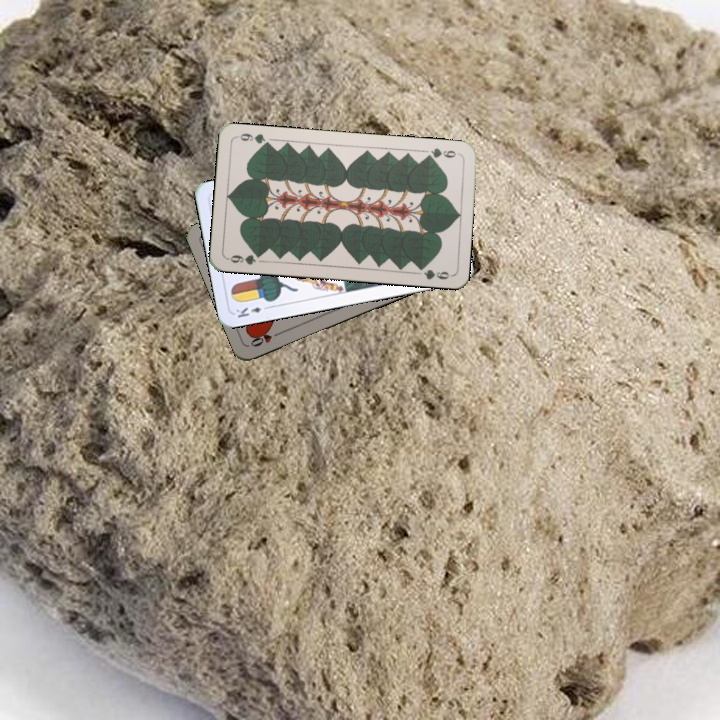EK: (232, 302, 273, 320)
G9: (224, 249, 265, 267), (421, 144, 462, 161)
HO: (246, 327, 285, 349)
